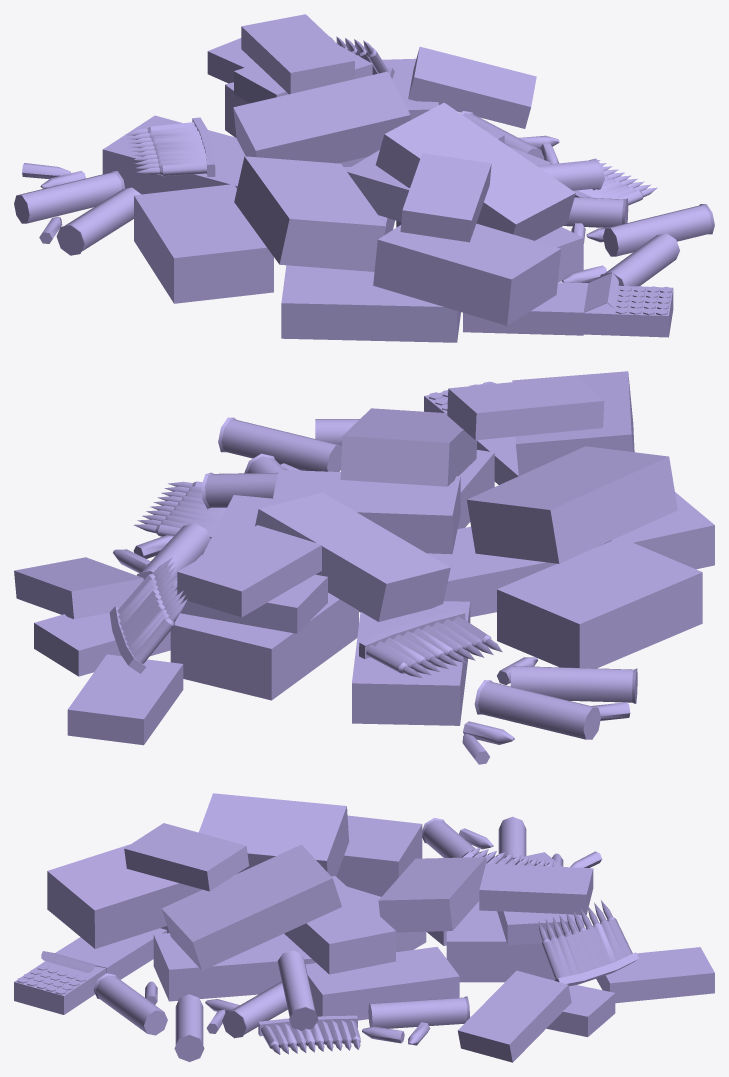
Rendered from AmmoStack.fbx.
The picture shows the model from 3 angles, top to bottom: view 1: azimuth 30°, elevation 25°; view 2: azimuth 150°, elevation 25°; view 3: azimuth 270°, elevation 25°; orthographic projection. The views are drawn at different scales.
Parts seen in each view (by area): view 1: ammo_stack; view 2: ammo_stack; view 3: ammo_stack.
Boxes of the visible parts, left/top/right/bottom form: ammo_stack: left=14, top=14, right=714, bottom=342; ammo_stack: left=14, top=371, right=714, bottom=764; ammo_stack: left=14, top=793, right=714, bottom=1062.
Size of the model in its own units: 44.95 by 9.85 by 58.69.
